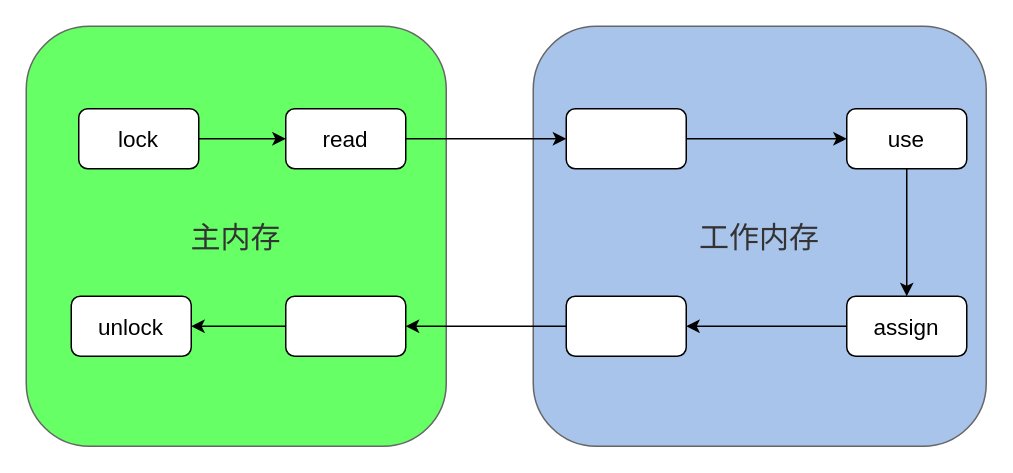
Image size: 1013x473. Some labels were removed from this diagram. Here are the shapes that lost their labels. From the top down, the centre of each, then its label:
point 625,138: load
point 345,325: write
point 625,325: store
